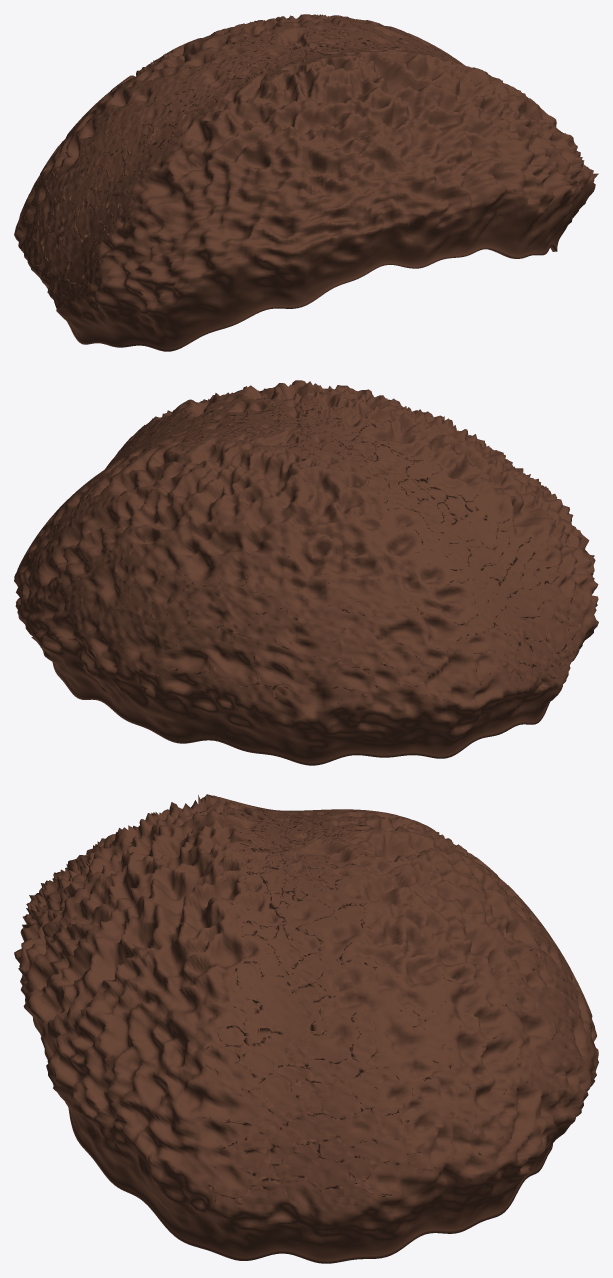
Rendered from Masculine-afro-pashmina260-hair.glb.
3 views of the same model, one above another, from view 1: azimuth 30°, elevation 25°; view 2: azimuth 150°, elevation 25°; view 3: azimuth 270°, elevation 25° (orthographic). The views are drawn at different scales.
Parts seen in each view (by area): view 1: 226 hair / Hair252 / dense natural coil groups.001; view 2: 226 hair / Hair252 / dense natural coil groups.001; view 3: 226 hair / Hair252 / dense natural coil groups.001.
Part boxes in pixels (left/top/right/bottom): 226 hair / Hair252 / dense natural coil groups.001: left=14, top=14, right=598, bottom=351; 226 hair / Hair252 / dense natural coil groups.001: left=14, top=380, right=598, bottom=765; 226 hair / Hair252 / dense natural coil groups.001: left=14, top=794, right=598, bottom=1263.
Size of the model in its own units: 1.06 by 0.4987 by 0.8736.
